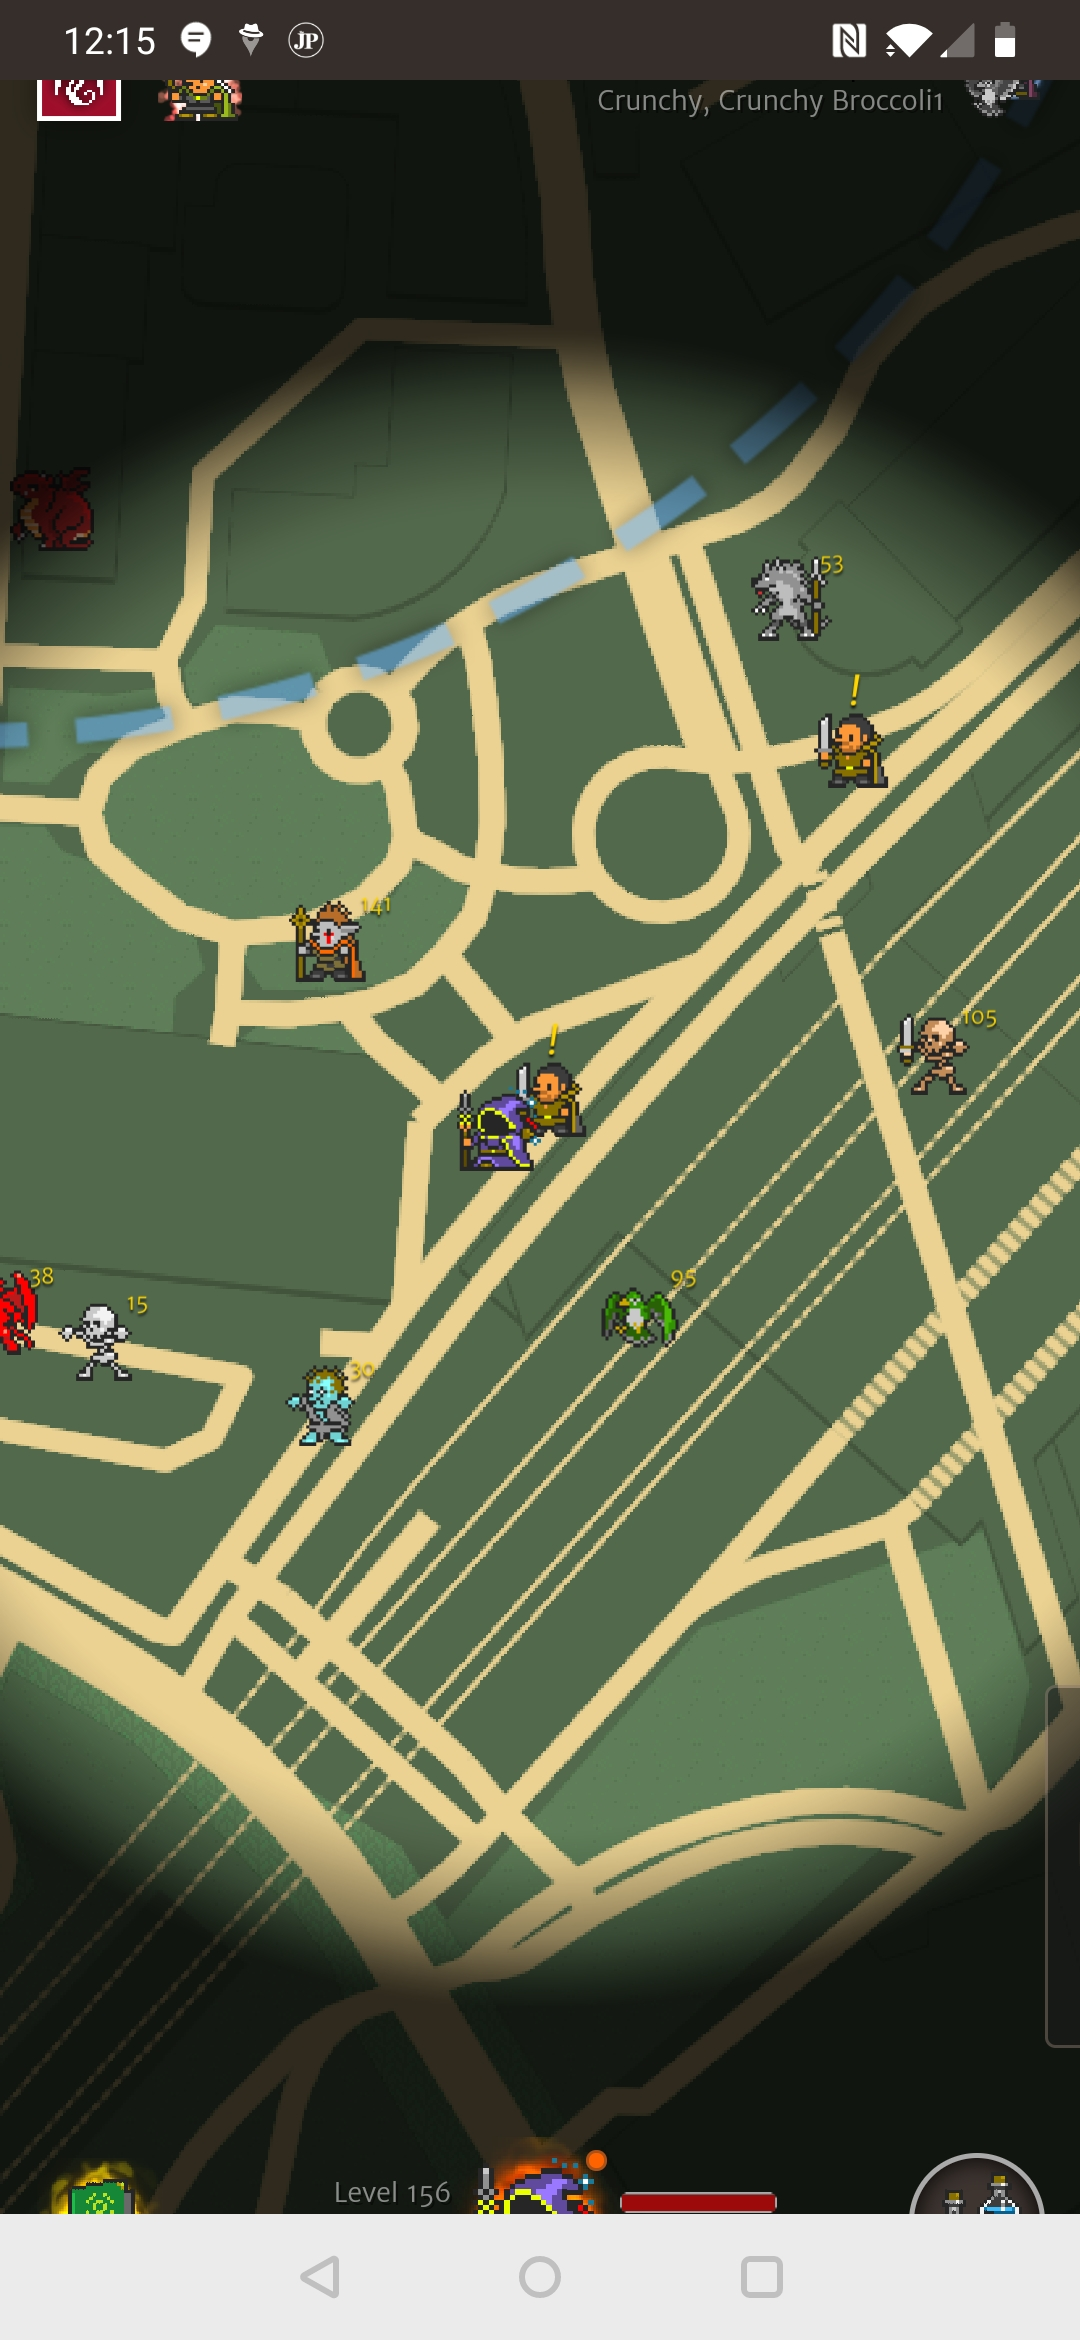monster: (580, 1264, 706, 1368), (276, 893, 400, 995), (888, 1003, 1002, 1109), (737, 550, 851, 648), (57, 1285, 155, 1389), (290, 1356, 380, 1456)
player: (455, 1097, 535, 1177)
